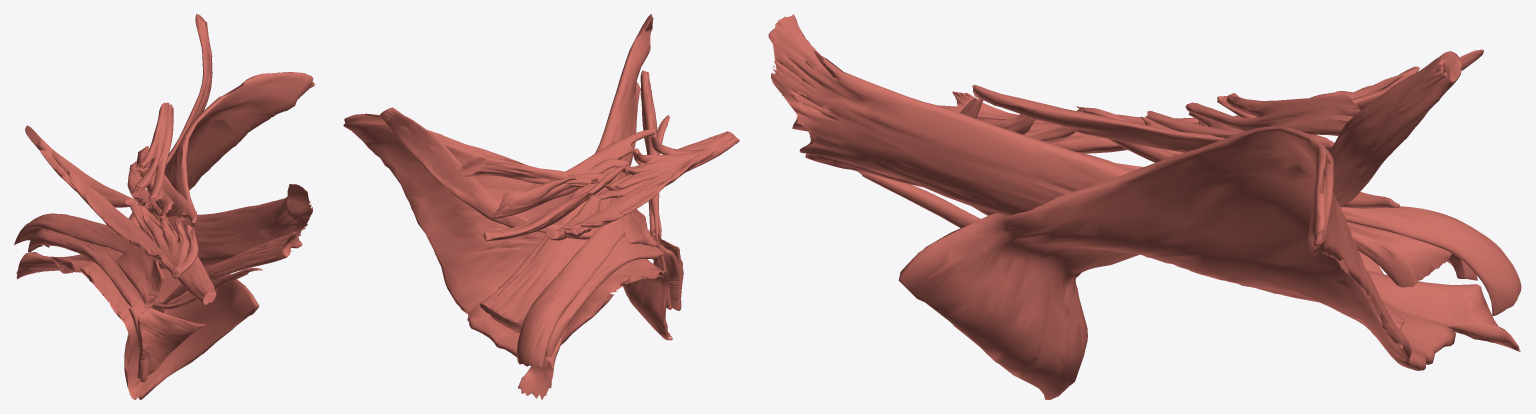
The model's file is neckm.glb.
The picture shows the model from 3 angles, left to right: view 1: azimuth 30°, elevation 25°; view 2: azimuth 150°, elevation 25°; view 3: azimuth 270°, elevation 25°; orthographic projection. The views are drawn at different scales.
Parts seen in each view (by area): view 1: left platysma, left sternocleidomastoid, left mylohyoid, left sternohyoid, vertical intermediate part of left longus colli, left sternothyroid, left digastric (3), left scalenus posterior, superior oblique part of left longus colli, left longus capitis, left thyrohyoid, inferior oblique part of left longus colli (+5 smaller); view 2: left platysma, left sternocleidomastoid, left sternothyroid, left omohyoid, left scalenus medius, left sternohyoid, vertical intermediate part of left longus colli, left scalenus posterior, superior oblique part of left longus colli, left scalenus anterior, left longus capitis, left digastric (3) (+5 smaller); view 3: left platysma, left sternocleidomastoid, left omohyoid, left sternothyroid, left scalenus medius, left scalenus posterior, left sternohyoid, left longus capitis, left stylohyoid, vertical intermediate part of left longus colli, left scalenus anterior, inferior oblique part of left longus colli (+2 smaller).
Part boxes in pixels (bbox=[...]): left platysma: bbox=[52, 72, 314, 399]; left sternocleidomastoid: bbox=[16, 183, 312, 279]; left mylohyoid: bbox=[137, 308, 204, 378]; left sternohyoid: bbox=[28, 229, 158, 307]; vertical intermediate part of left longus colli: bbox=[52, 151, 178, 275]; left sternothyroid: bbox=[14, 213, 139, 252]; left digastric (3): bbox=[162, 232, 296, 304]; left scalenus posterior: bbox=[135, 102, 173, 203]; superior oblique part of left longus colli: bbox=[143, 215, 198, 278]; left longus capitis: bbox=[130, 199, 216, 304]; left thyrohyoid: bbox=[116, 246, 164, 304]; inferior oblique part of left longus colli: bbox=[25, 125, 135, 207]; left platysma: bbox=[343, 113, 672, 366]; left sternocleidomastoid: bbox=[479, 14, 653, 399]; left sternothyroid: bbox=[517, 214, 626, 367]; left omohyoid: bbox=[379, 107, 625, 239]; left scalenus medius: bbox=[492, 129, 655, 218]; left sternohyoid: bbox=[545, 229, 664, 356]; vertical intermediate part of left longus colli: bbox=[562, 147, 716, 229]; left scalenus posterior: bbox=[457, 157, 603, 184]; superior oblique part of left longus colli: bbox=[614, 135, 717, 189]; left scalenus anterior: bbox=[483, 164, 627, 241]; left longus capitis: bbox=[588, 131, 739, 199]; left digastric (3): bbox=[640, 70, 659, 242]; left platysma: bbox=[898, 127, 1455, 399]; left sternocleidomastoid: bbox=[768, 14, 1520, 351]; left omohyoid: bbox=[1329, 51, 1461, 206]; left sternothyroid: bbox=[1116, 163, 1521, 315]; left scalenus medius: bbox=[972, 85, 1334, 152]; left scalenus posterior: bbox=[1145, 94, 1360, 138]; left sternohyoid: bbox=[1347, 222, 1477, 287]; left longus capitis: bbox=[792, 116, 1145, 153]; left stylohyoid: bbox=[853, 170, 980, 227]; vertical intermediate part of left longus colli: bbox=[938, 75, 1402, 124]; left scalenus anterior: bbox=[1108, 116, 1399, 208]; inferior oblique part of left longus colli: bbox=[1194, 49, 1483, 124].
Size of the model in its own units: 146 by 147 by 201.
